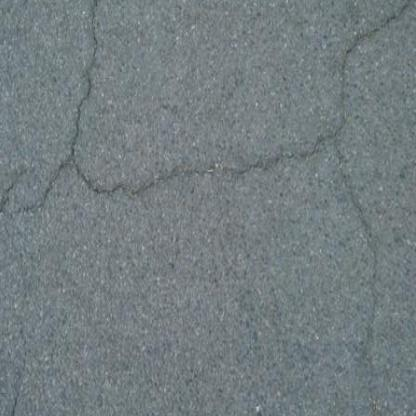Cracks: (63, 115, 356, 209), (323, 174, 416, 416), (317, 0, 416, 119), (0, 161, 94, 264), (69, 0, 108, 166), (0, 303, 29, 416)
